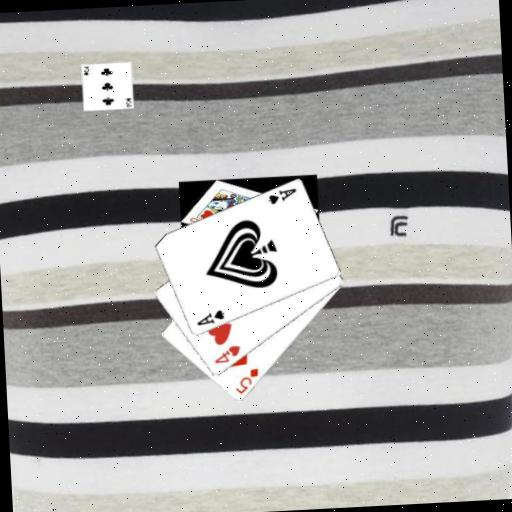4H: (210, 342, 243, 366)
5D: (231, 366, 261, 396)
AS: (193, 307, 226, 328), (265, 186, 298, 207)
